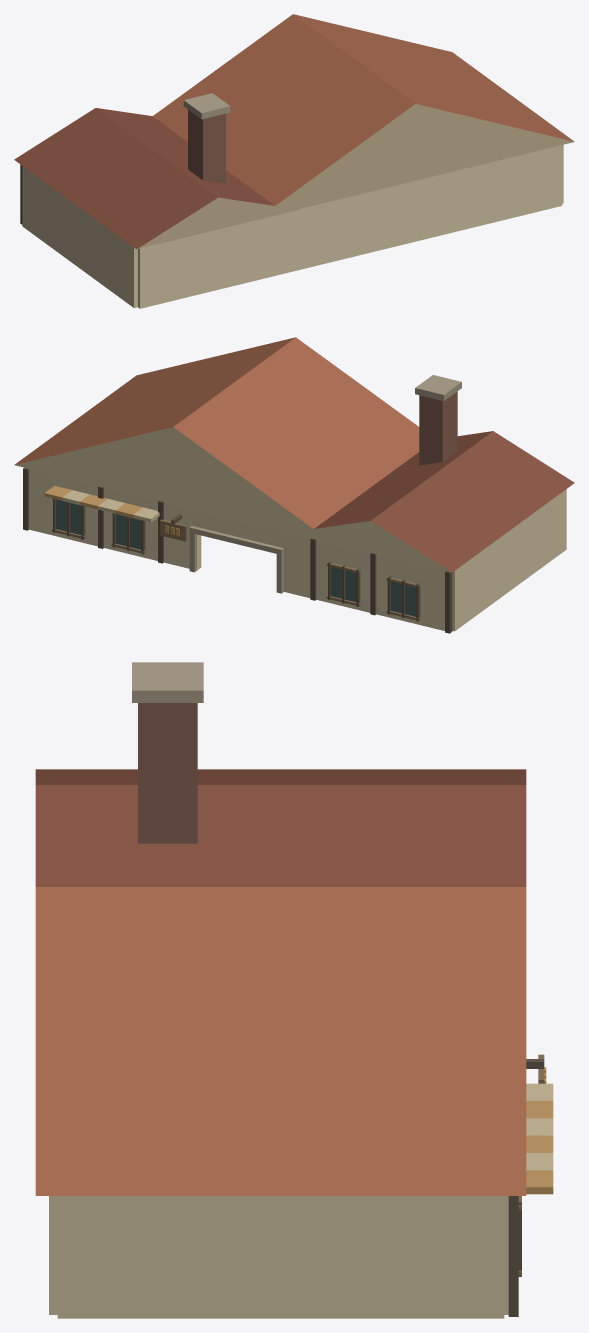
File: TownEx_Bakery_Cover.fbx
The picture shows the model from 3 angles, top to bottom: view 1: azimuth 30°, elevation 25°; view 2: azimuth 150°, elevation 25°; view 3: azimuth 270°, elevation 25°; orthographic projection. The views are drawn at different scales.
Visible parts, largest first — view 1: TownEx_Bakery_Cover; view 2: TownEx_Bakery_Cover; view 3: TownEx_Bakery_Cover.
Part boxes in pixels (x1=…): TownEx_Bakery_Cover: x1=14, y1=14, x2=574, y2=308; TownEx_Bakery_Cover: x1=14, y1=337, x2=574, y2=633; TownEx_Bakery_Cover: x1=35, y1=662, x2=553, y2=1318.
Bounding box in the file's own units: 16.1 × 5.64 × 8.23.
